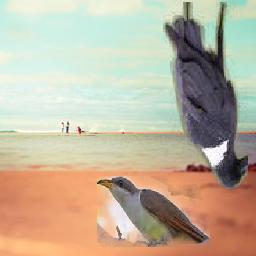Crow: (164, 2, 249, 190)
Cuckoo: (98, 177, 211, 248)
